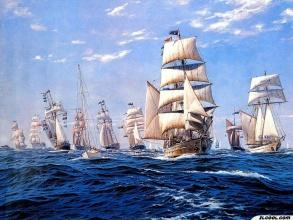fanchuan: (158, 27, 216, 157), (240, 69, 291, 156), (44, 91, 71, 150), (81, 100, 103, 164), (123, 101, 150, 152), (101, 100, 122, 152), (225, 111, 250, 152), (74, 105, 89, 152), (29, 113, 44, 153), (12, 118, 27, 150)
